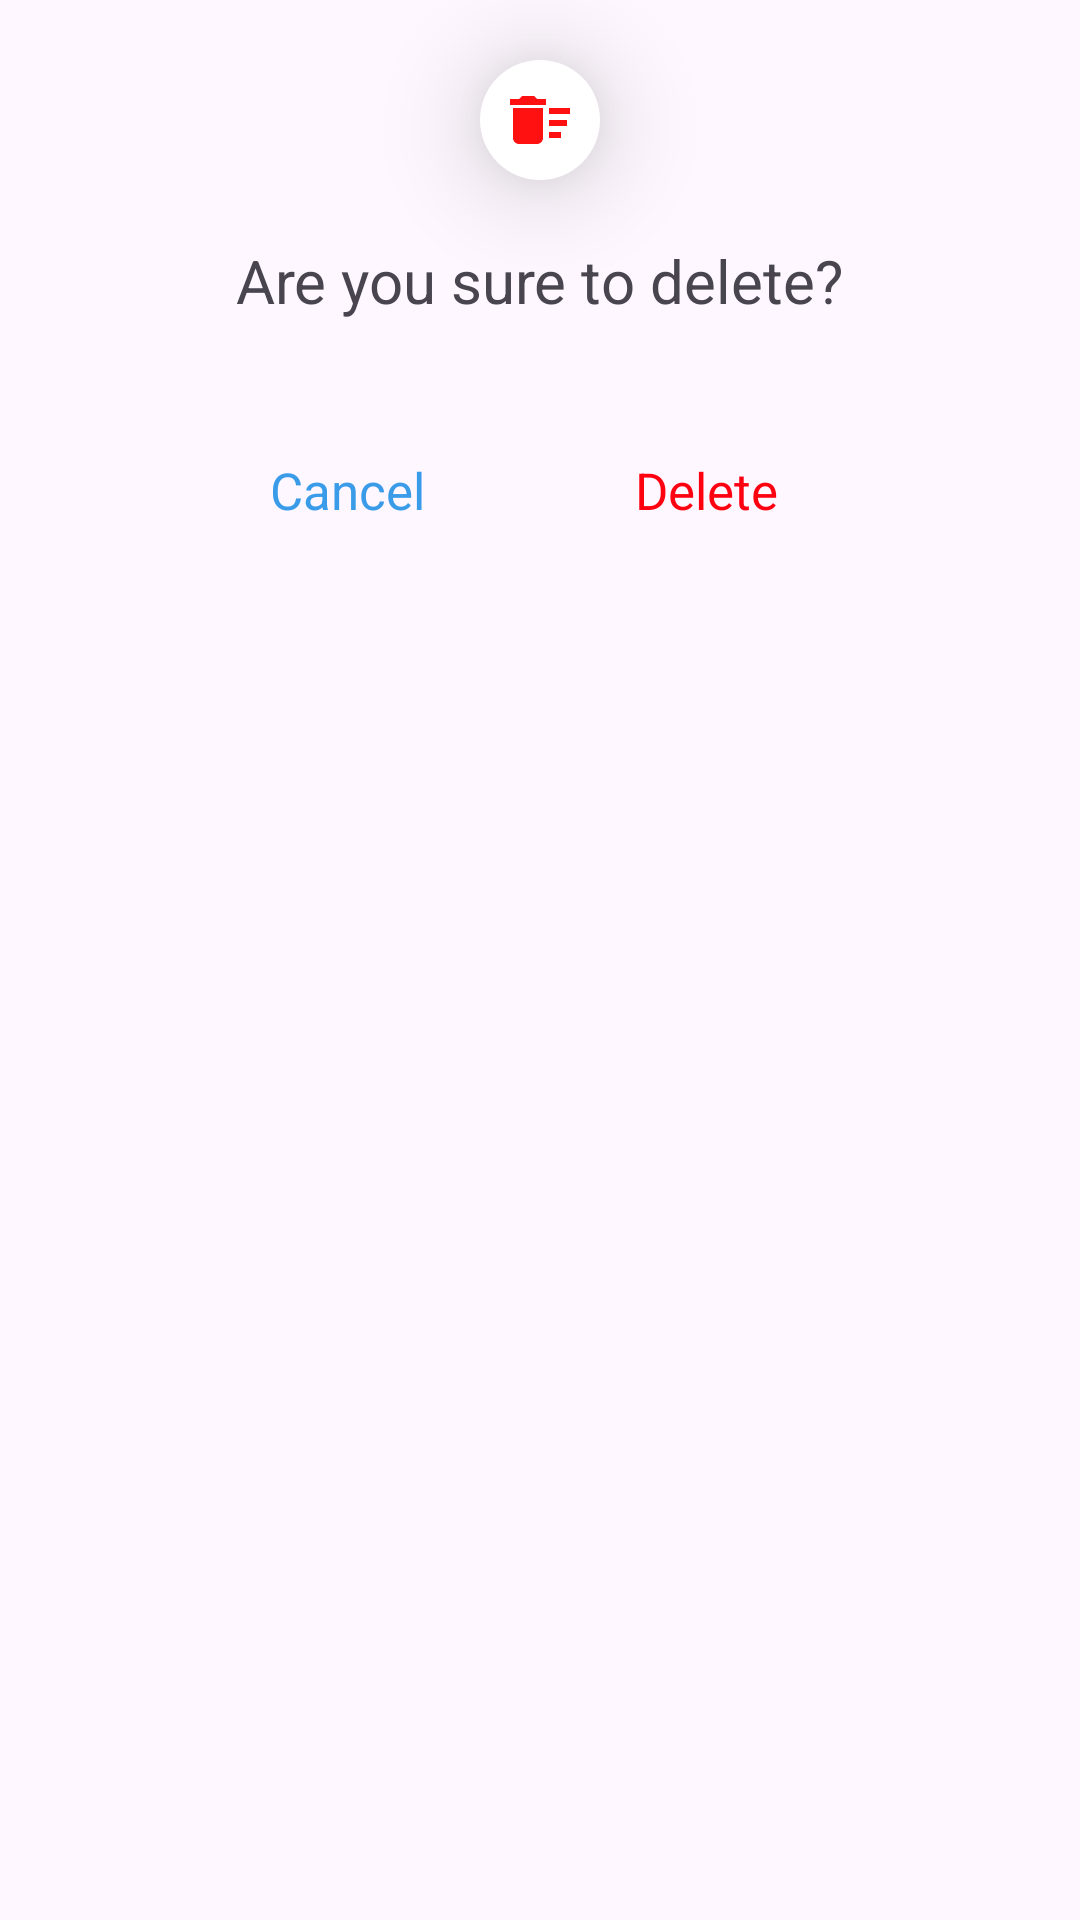

Icon bounding boxes for this 1080*1920 phone screenshot, format [x1, y1, x2, y2]:
alert dialog delete: [480, 60, 600, 180]
